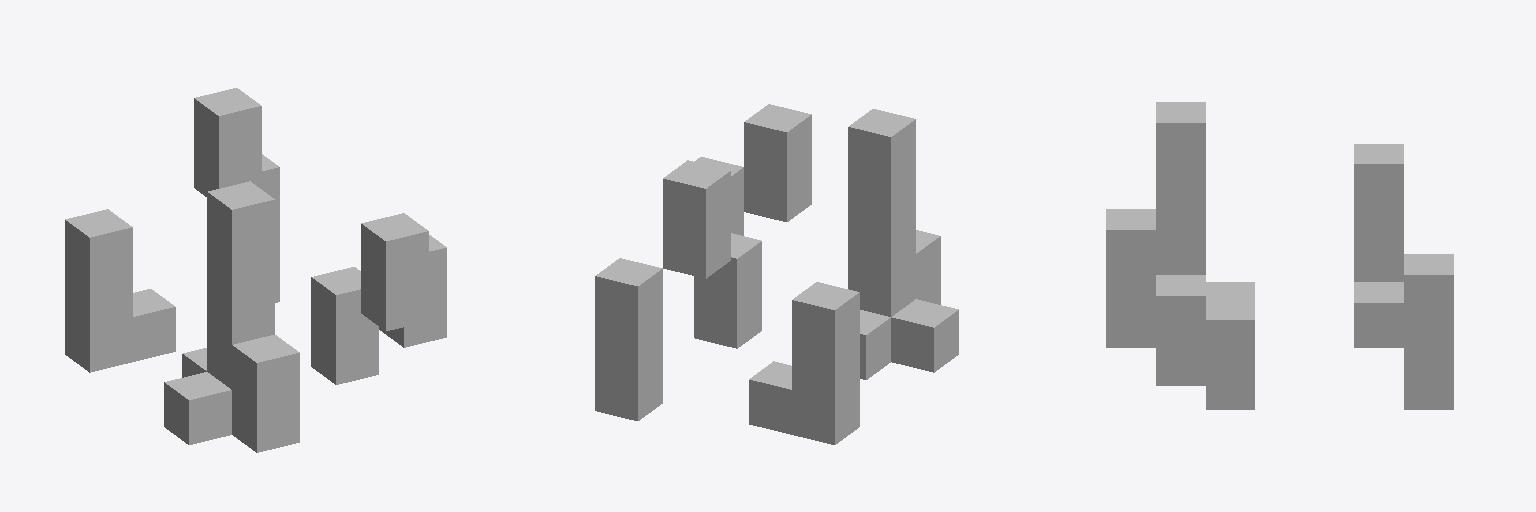
File: grass.obj
3 views of the same model, side by side, from view 1: azimuth 30°, elevation 25°; view 2: azimuth 150°, elevation 25°; view 3: azimuth 270°, elevation 25° (orthographic).
Visible parts, largest first — view 1: Untitled; view 2: Untitled; view 3: Untitled.
Part boxes in pixels (x1,y1,x2,y2): Untitled: (65, 88, 446, 452); Untitled: (595, 104, 958, 444); Untitled: (1106, 102, 1453, 409).
Bounding box in the file's own units: 0.6 × 0.5 × 0.7.